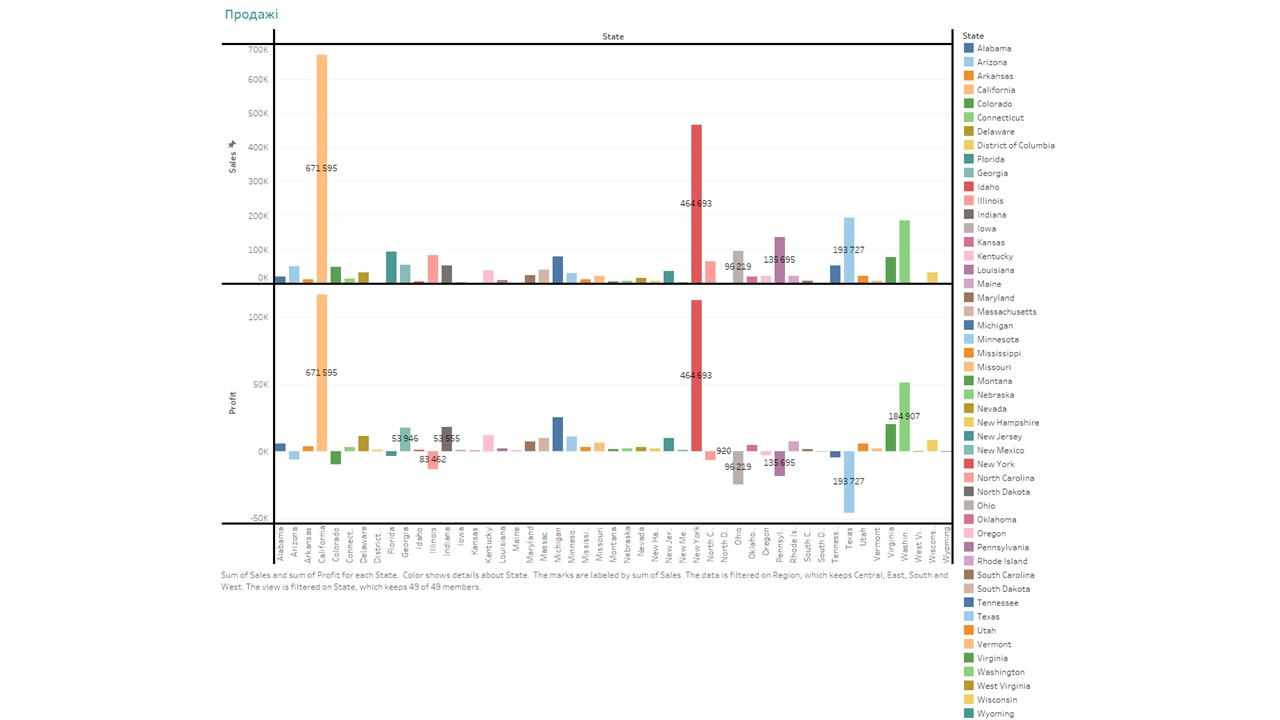

The page's visual inventory and layout, read from the dashboard file:
{"tool":"tableau","page":{"name":"Dashboard 1","canvas":[1000,800],"ordinal":0},"visuals":[{"type":"worksheet","title":"DataSet (5)","mark":"Automatic","box":[8,8,627,784]},{"type":"worksheet","title":"DataSet (3)","mark":"Bar","rows":["Sales","Profit"],"cols":["Order Date"],"box":[635,8,357,592]},{"type":"legend","title":"DataSet (3)","param":"[federated.15leef616ht11917ihiai0r8nk6m].[:Measure Names]","box":[635,600,357,66]},{"type":"legend","title":"DataSet (5)","param":"[federated.15leef616ht11917ihiai0r8nk6m].[sum:Sales:qk]","box":[635,666,357,126]}]}

Visuals, with their boxes on the page's 1000x800 design canvas (x1, y1, x2, y2). These are canvas units, not pixel positions in the 1280x720 screenshot, which may show the page scaled, cropped or inside an application window:
"DataSet (5)" worksheet: bbox=(8, 8, 635, 792)
"DataSet (3)" worksheet (Bar marks): bbox=(635, 8, 992, 600)
"DataSet (3)" legend: bbox=(635, 600, 992, 666)
"DataSet (5)" legend: bbox=(635, 666, 992, 792)
